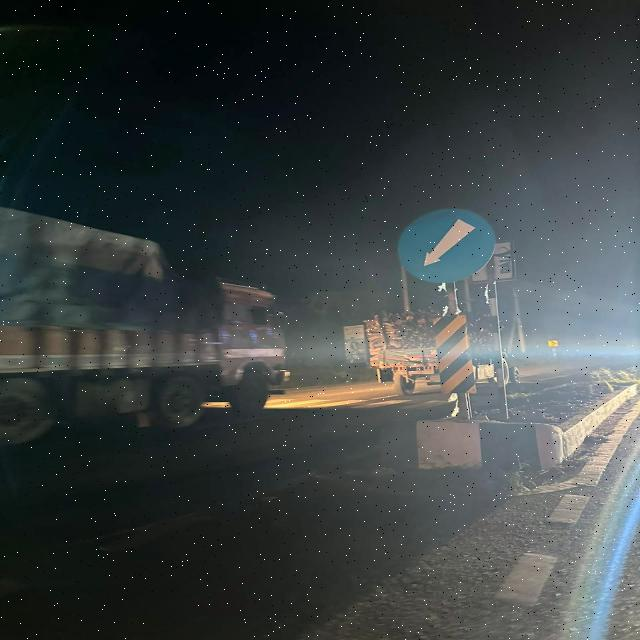compulsory_keep_left: (392, 211, 495, 285)
object_hazzard_to_right: (426, 312, 484, 403)
